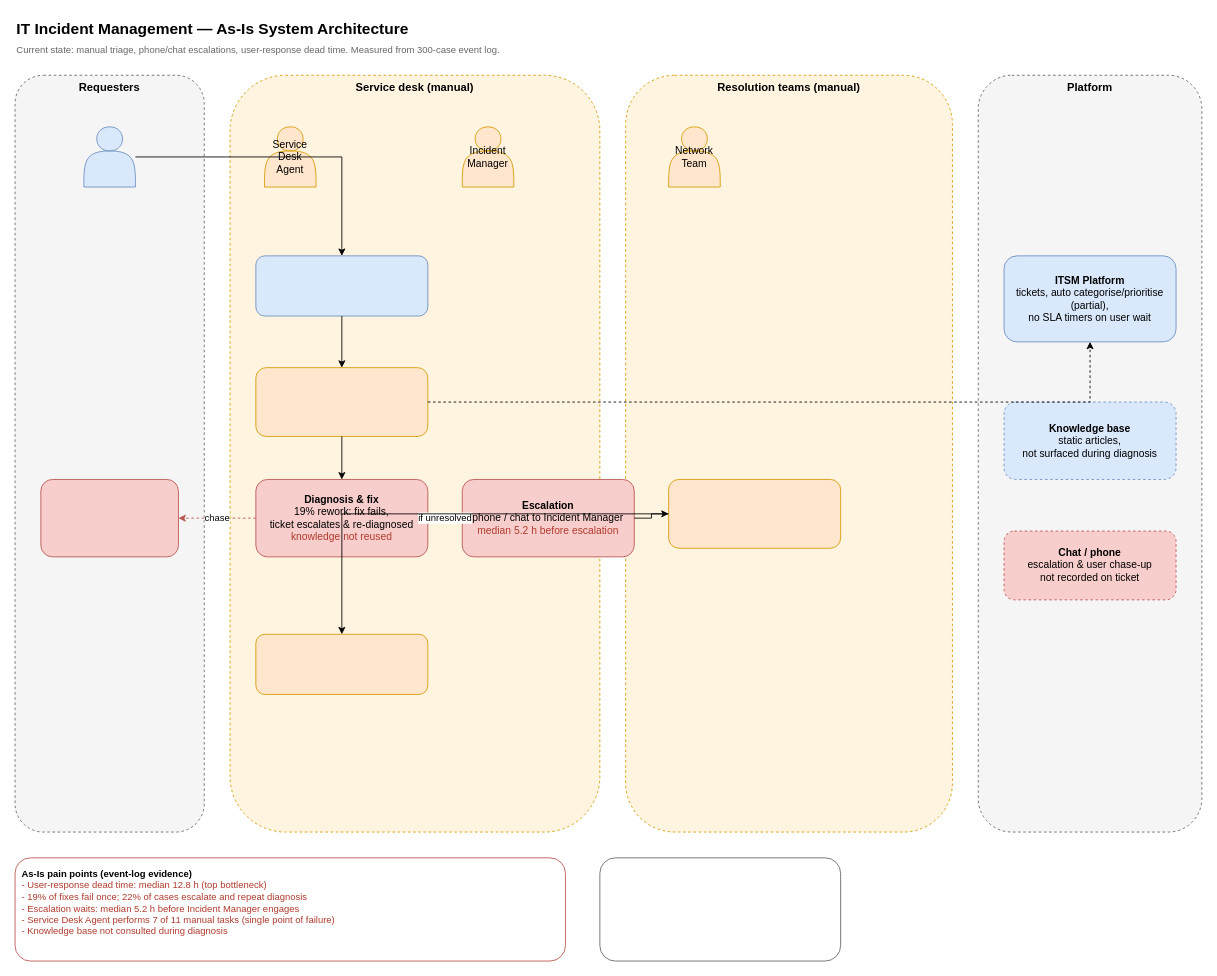
This 1217x976 diagram has some shape labels left out. Each missing label, with the centre of its shape:
Await user response TOP BOTTLENECK median 12.8 h dead time: the point at 109,518
End User: the point at 109,156
Intake channels phone, email, walk-up, portal: the point at 341,285
Legend ■ red = bottleneck / pain ■ orange = manual step: the point at 720,909
Manual triage agent categorises & prioritises inconsistent taxonomy: the point at 341,401
Satisfaction survey manual follow-up: the point at 341,663
Service restoration Network Team, manual runbooks: the point at 754,513
